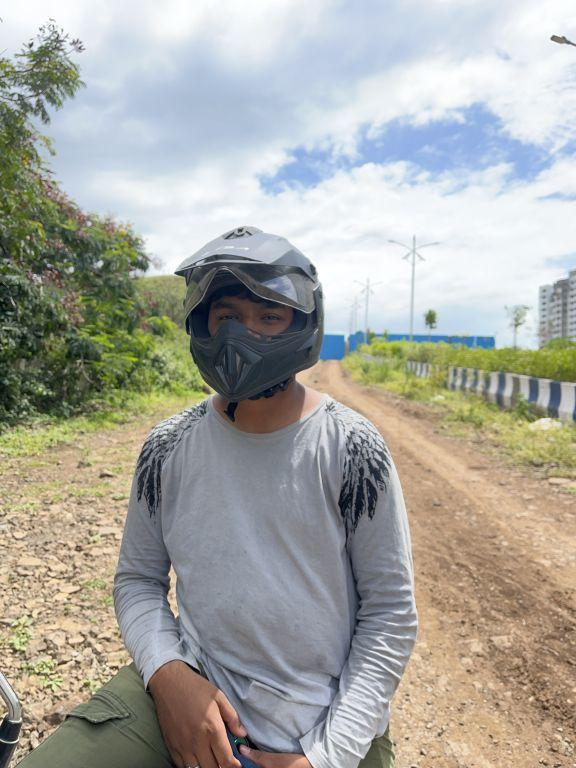helmet: (164, 194, 338, 419)
